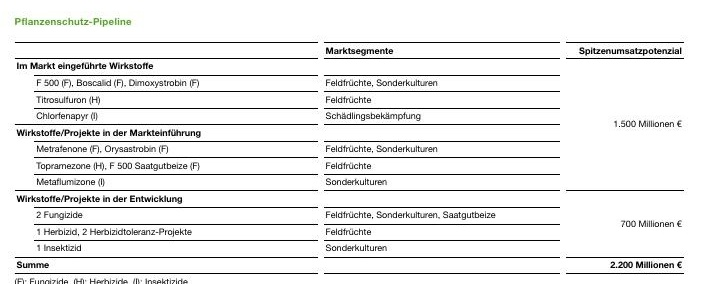table: (0, 0, 705, 284)
